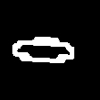chain: (13, 37, 73, 62)
